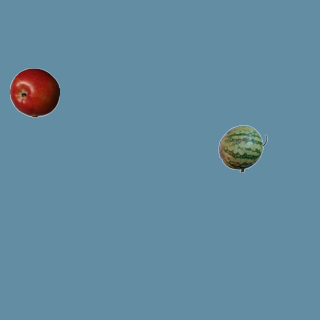Apple Braeburn: (9, 67, 59, 117)
Watermelon: (217, 123, 267, 173)
